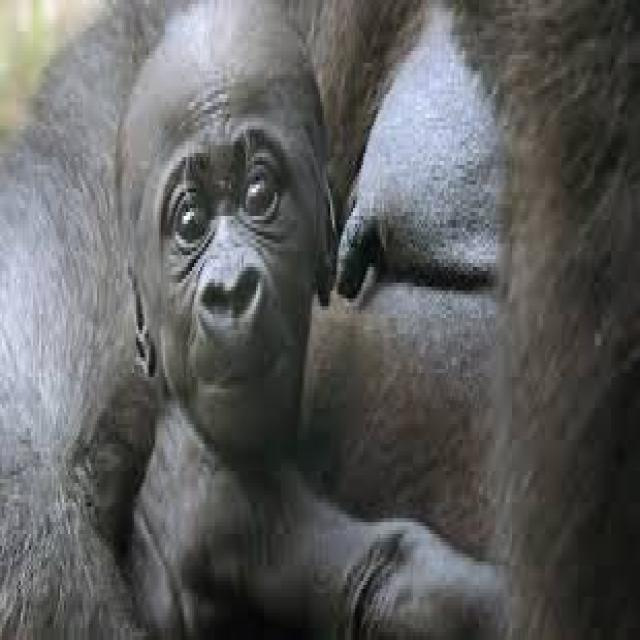Gorilla: (100, 1, 511, 629)
